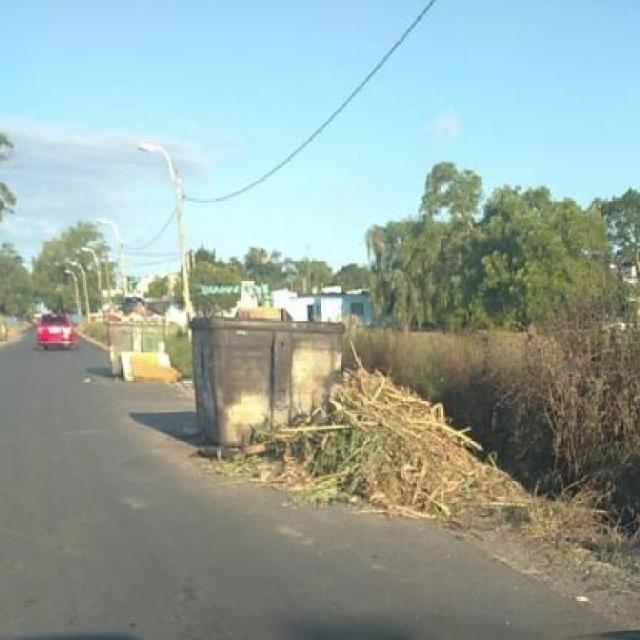garbage: (251, 360, 600, 514), (111, 342, 190, 376), (117, 292, 171, 324), (231, 303, 294, 319)
